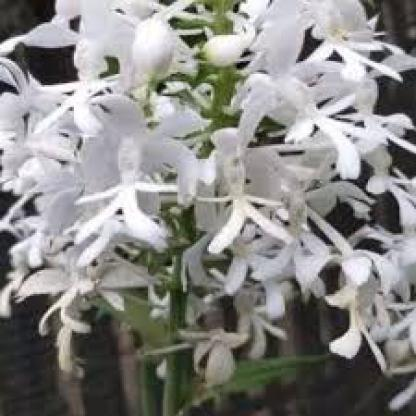ANGGREK: (18, 16, 408, 374)
